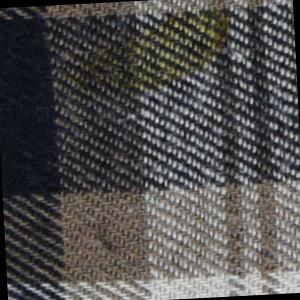Oil Stain: (57, 4, 241, 111)
